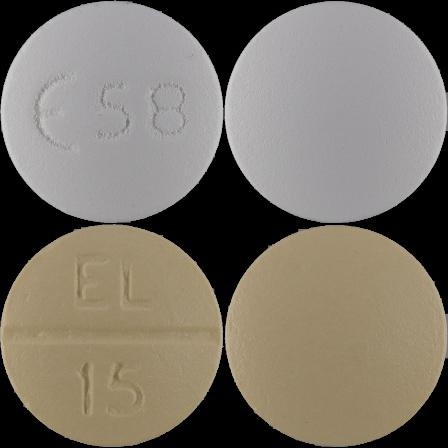51224-154: (0, 0, 224, 224)
